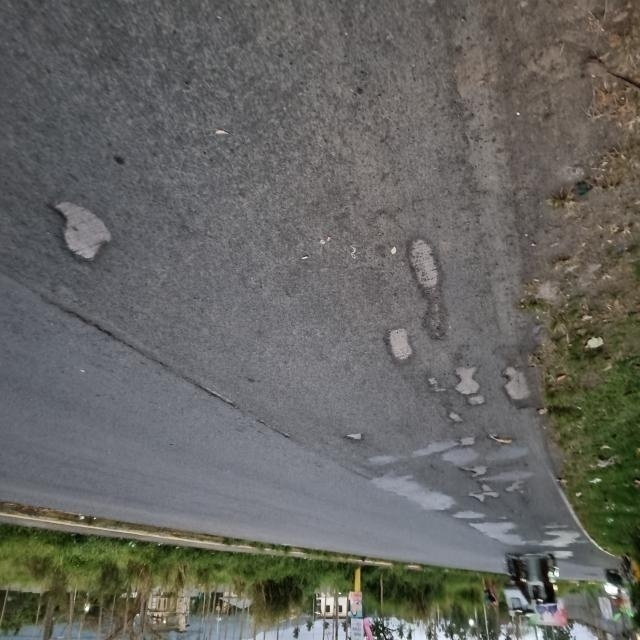pothole: (388, 231, 551, 571), (31, 176, 133, 294)
